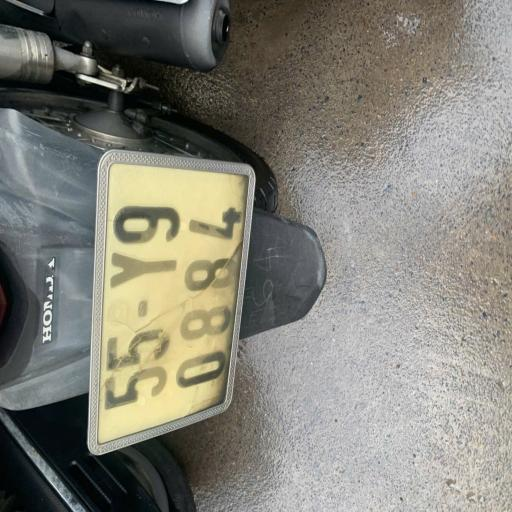0: (172, 348, 236, 401)
4: (184, 191, 245, 248)
5: (96, 365, 175, 417), (98, 320, 176, 372)
8: (174, 246, 254, 306), (175, 300, 248, 345)
9: (106, 194, 189, 257)
Y: (101, 250, 180, 297)
